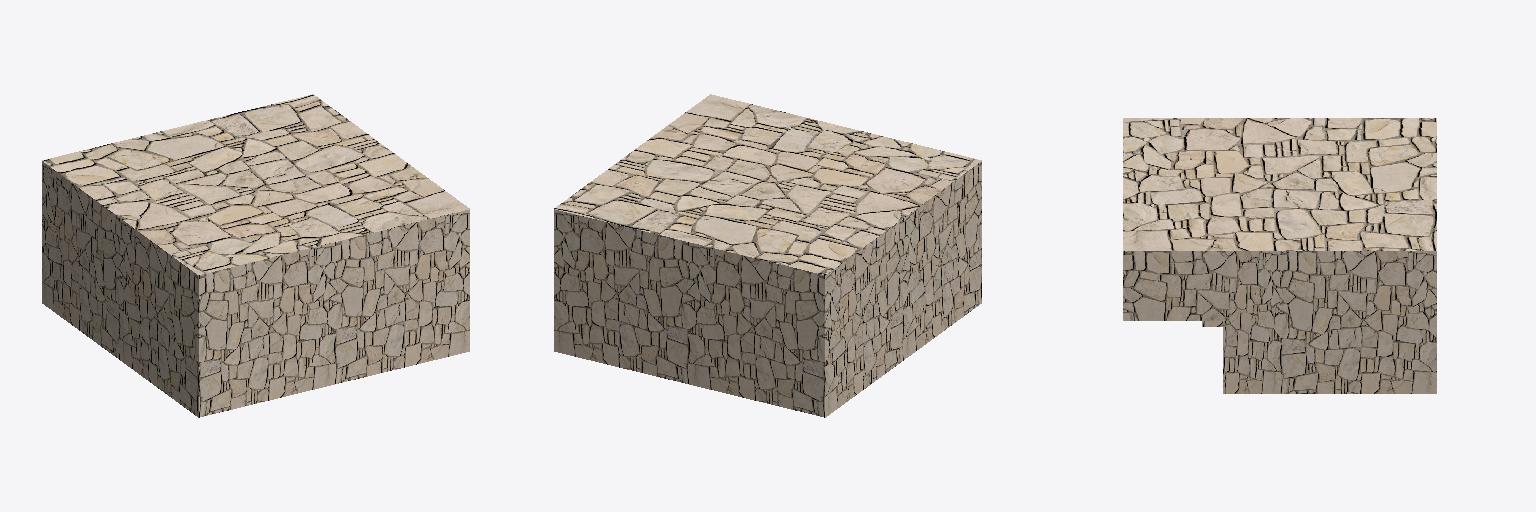
The picture shows the model from 3 angles: view 1: azimuth 30°, elevation 25°; view 2: azimuth 150°, elevation 25°; view 3: azimuth 270°, elevation 25°; orthographic projection.
Visible parts, largest first — view 1: Plane.013_Plane, Plane_Plane.002, Plane.005_Plane.007, Plane.006_Plane.009, Plane.004_Plane.006; view 2: Plane.013_Plane, Plane.002_Plane.004, Plane.003_Plane.005, Plane.004_Plane.006, Plane.006_Plane.009; view 3: Plane.013_Plane, Plane.012_Plane.008, Plane.011_Plane.001.
Part boxes in pixels (x1,y1,x2,y2): Plane.013_Plane: (42,94,469,274); Plane_Plane.002: (334,209,469,384); Plane.005_Plane.007: (199,243,333,417); Plane.006_Plane.009: (120,218,198,417); Plane.004_Plane.006: (42,161,119,359); Plane.013_Plane: (554,94,981,274); Plane.002_Plane.004: (554,209,689,384); Plane.003_Plane.005: (690,243,824,417); Plane.004_Plane.006: (825,218,903,417); Plane.006_Plane.009: (904,161,981,359); Plane.013_Plane: (1123,118,1436,250); Plane.012_Plane.008: (1280,251,1436,393); Plane.011_Plane.001: (1123,251,1279,393).
Size of the model in its own units: 10 by 5 by 10.
1 materials, 1 textured.